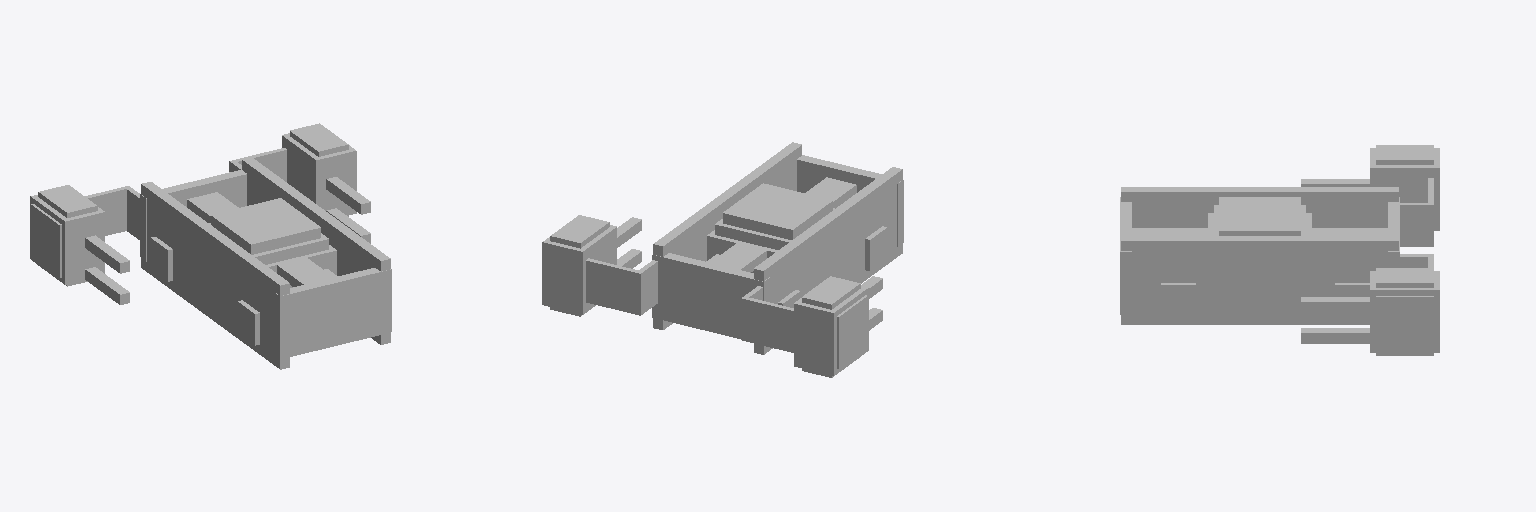
File: frame.obj
The picture shows the model from 3 angles: view 1: azimuth 30°, elevation 25°; view 2: azimuth 150°, elevation 25°; view 3: azimuth 270°, elevation 25°; orthographic projection.
Visible parts, largest first — view 1: cube.063; view 2: cube.063; view 3: cube.063.
Boxes of the visible parts, <box> form: cube.063: <box>30,123,391,369</box>; cube.063: <box>542,142,903,377</box>; cube.063: <box>1120,145,1439,355</box>.
Bounding box in the file's own units: 3.69 × 1 × 3.44.